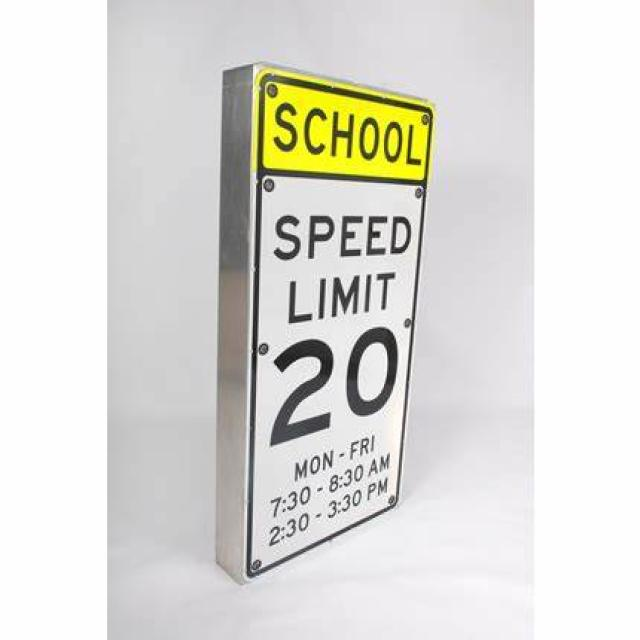speedLimit20: (258, 79, 438, 582)
